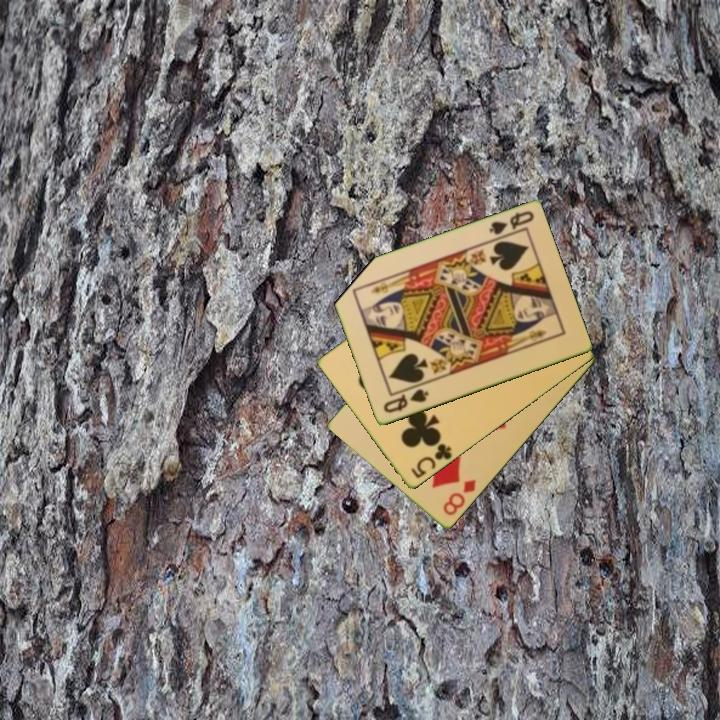5c: (407, 438, 455, 482)
8d: (440, 476, 479, 519)
Qs: (485, 208, 537, 243), (380, 386, 431, 416)
